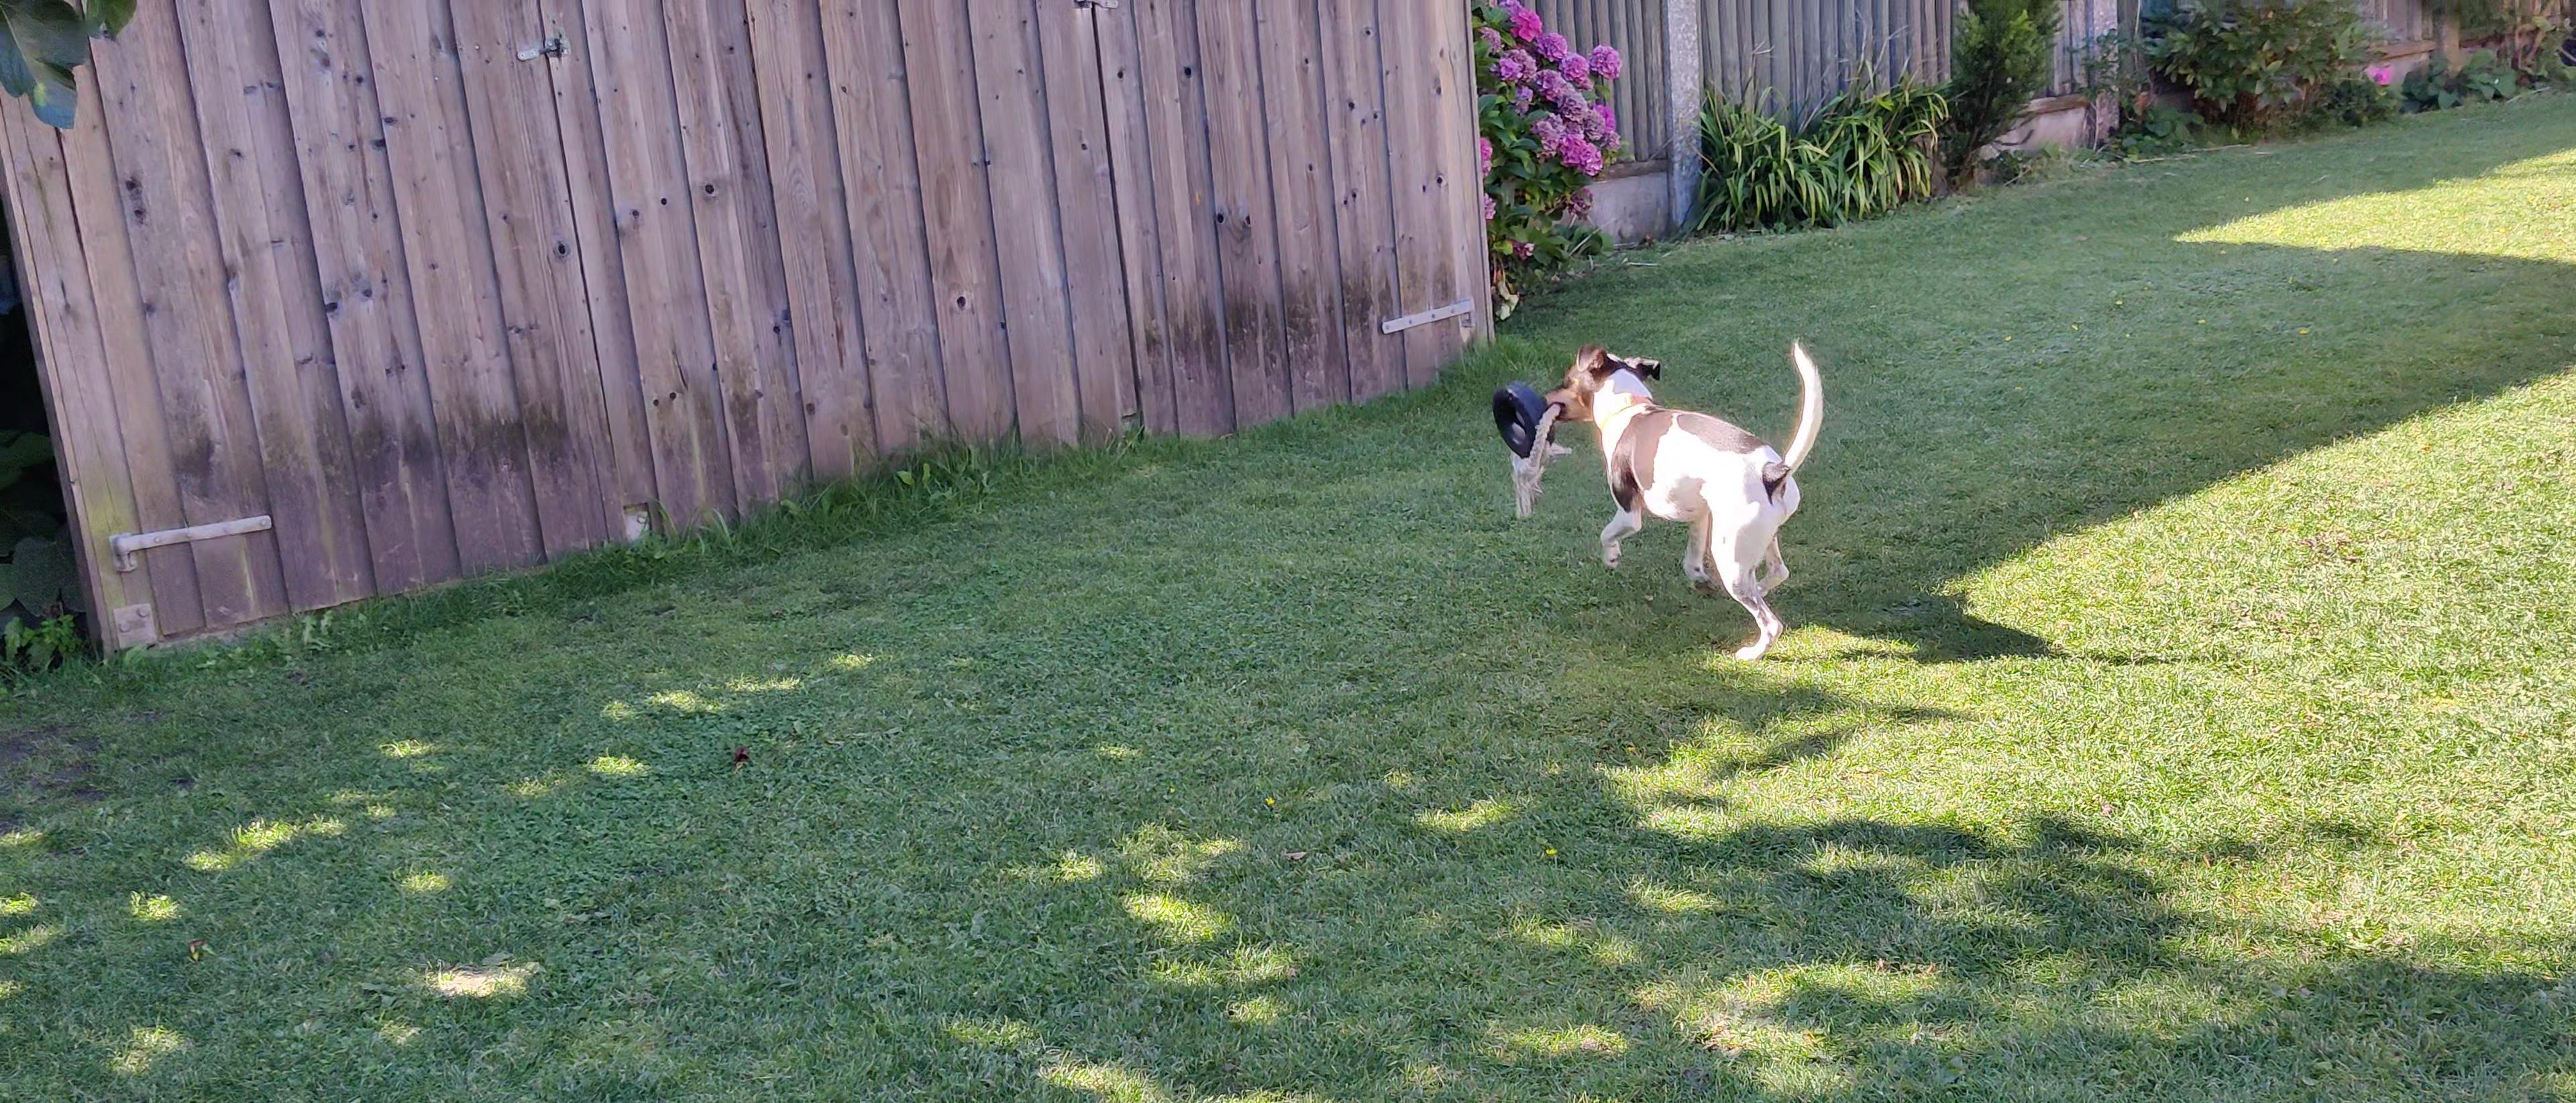Dog: (1534, 329, 1840, 669)
